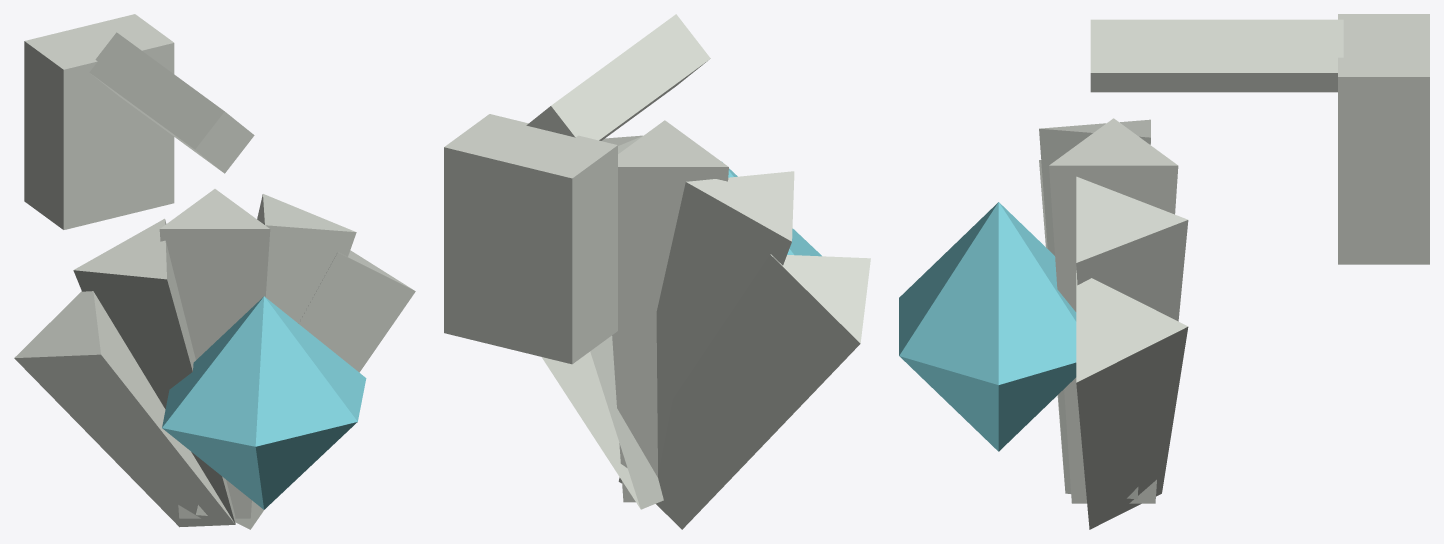
Rendered from Water_Fixture.fbx.
The picture shows the model from 3 angles, left to right: view 1: azimuth 30°, elevation 25°; view 2: azimuth 150°, elevation 25°; view 3: azimuth 270°, elevation 25°; orthographic projection. The views are drawn at different scales.
Visible parts, largest first — view 1: Water_Fixture; view 2: Water_Fixture; view 3: Water_Fixture.
Boxes of the visible parts, x1,y1,x2,y2 form: Water_Fixture: [14, 14, 415, 529]; Water_Fixture: [444, 14, 870, 529]; Water_Fixture: [899, 14, 1429, 529].
Bounding box in the file's own units: 43.42 × 47.61 × 46.16.
